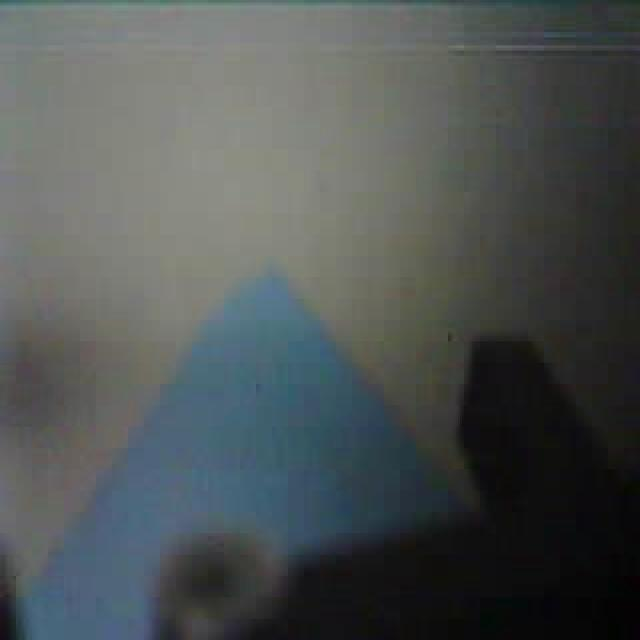blue_box: (12, 262, 470, 638)
